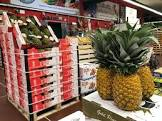Pineapple: (113, 32, 142, 112), (91, 32, 118, 99)
